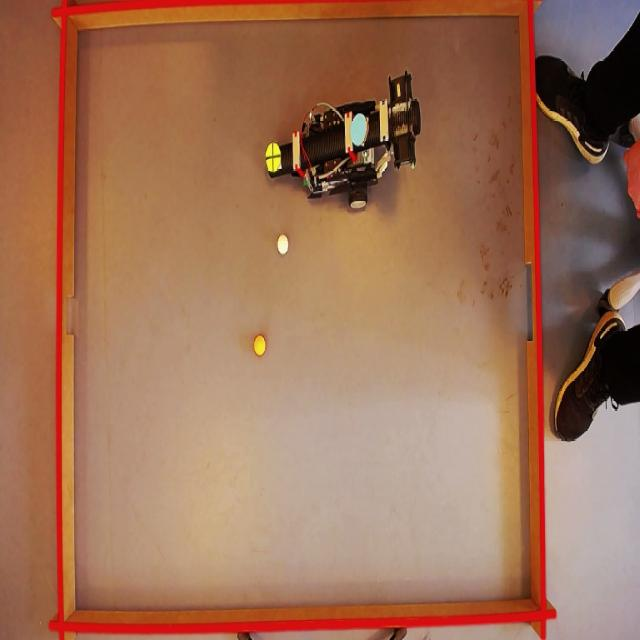orange: (253, 335, 268, 355)
robot: (266, 86, 424, 209)
robot-front: (266, 142, 282, 174)
robot-rear: (348, 110, 367, 148)
white: (276, 234, 289, 254)
